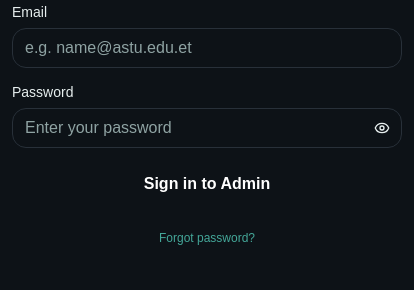
Test case: Independent staff authentication › signs students back out of staff forms without routing them into a staff portal
Type "account@example.com" into the field labelled "Email" at (207, 48), box [12,28,402,68]
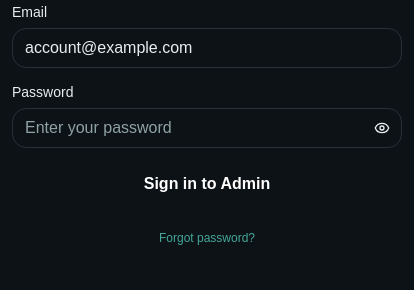
Type "test-password" into the password field labelled "Password" at (207, 128), box [12,108,402,148]
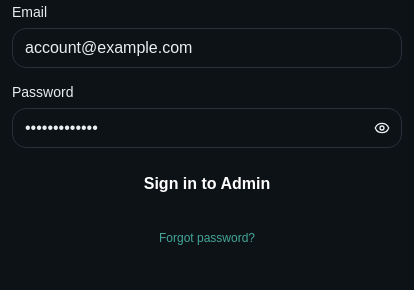
Click the button "Sign in to Admin" at (207, 184), box [12,160,402,208]
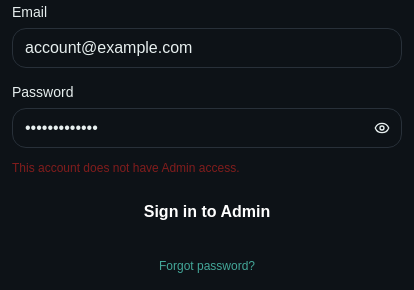
Result: the message "This account does not have Admin access." is shown at [12,161,240,175]
